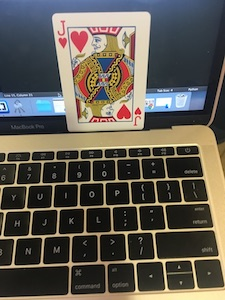JackOfHearts: (46, 8, 154, 134)
